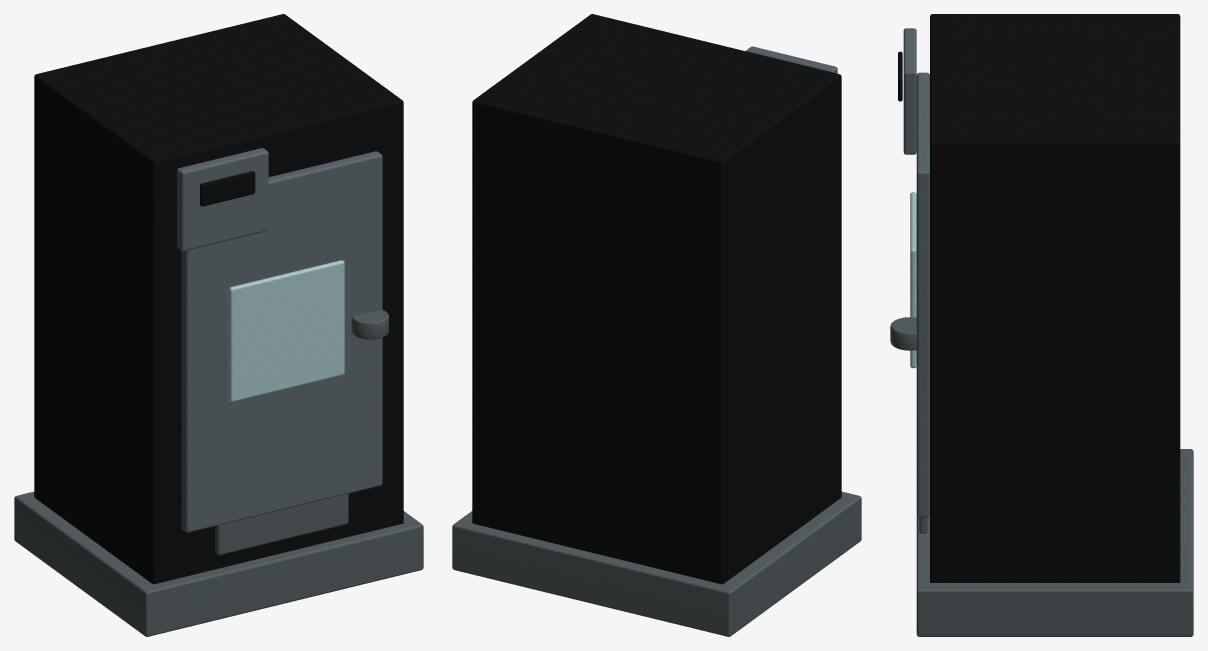
The model's file is InstrumentSterilizer.fbx.
3 renders of one model, left to right at view 1: azimuth 30°, elevation 25°; view 2: azimuth 150°, elevation 25°; view 3: azimuth 270°, elevation 25°, orthographic. The views are drawn at different scales.
Parts seen in each view (by area): view 1: InstrumentSterilizer_Mesh; view 2: InstrumentSterilizer_Mesh; view 3: InstrumentSterilizer_Mesh.
Part boxes in pixels (x1,y1,x2,y2): InstrumentSterilizer_Mesh: (14,14,423,636); InstrumentSterilizer_Mesh: (452,14,861,636); InstrumentSterilizer_Mesh: (890,14,1193,636).
Size of the model in its own units: 102 by 164 by 92.
